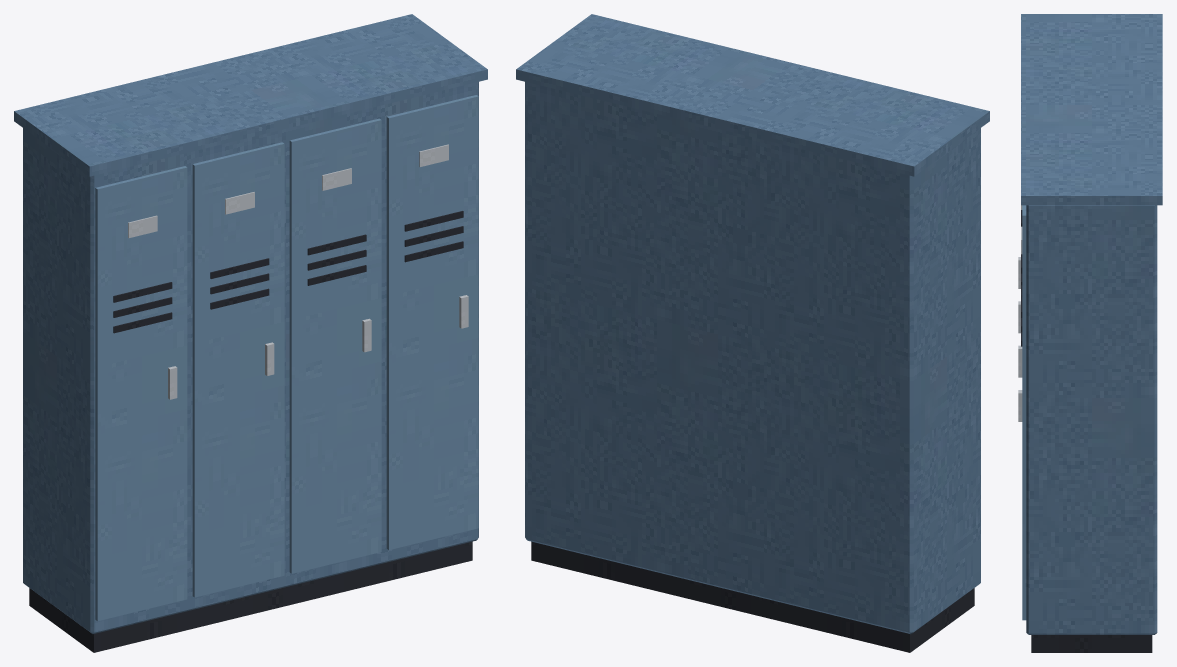
The picture shows the model from 3 angles, left to right: view 1: azimuth 30°, elevation 25°; view 2: azimuth 150°, elevation 25°; view 3: azimuth 270°, elevation 25°; orthographic projection. The views are drawn at different scales.
Visible parts, largest first — view 1: Decor_police_lockers; view 2: Decor_police_lockers; view 3: Decor_police_lockers.
Boxes of the visible parts, left/top/right/bottom form: Decor_police_lockers: left=14, top=14, right=487, bottom=652; Decor_police_lockers: left=516, top=14, right=989, bottom=652; Decor_police_lockers: left=1018, top=14, right=1162, bottom=652.
Bounding box in the file's own units: 1.64 × 1.94 × 0.55.
4 materials, 4 textured.
